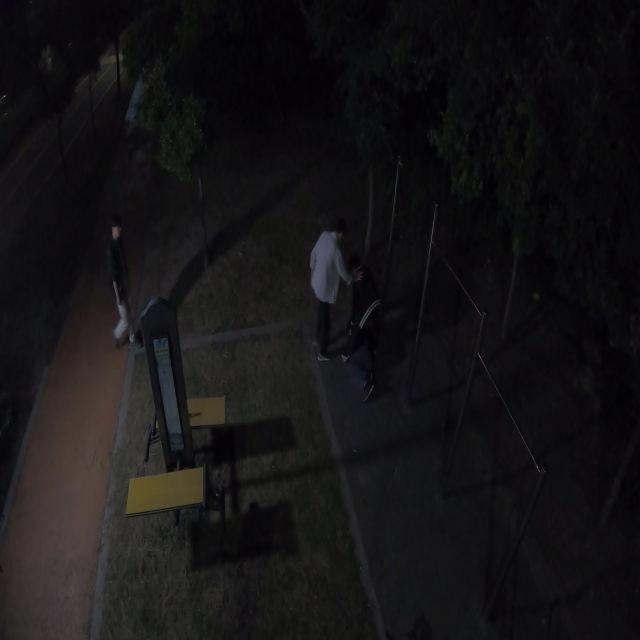fight: (300, 220, 389, 401)
